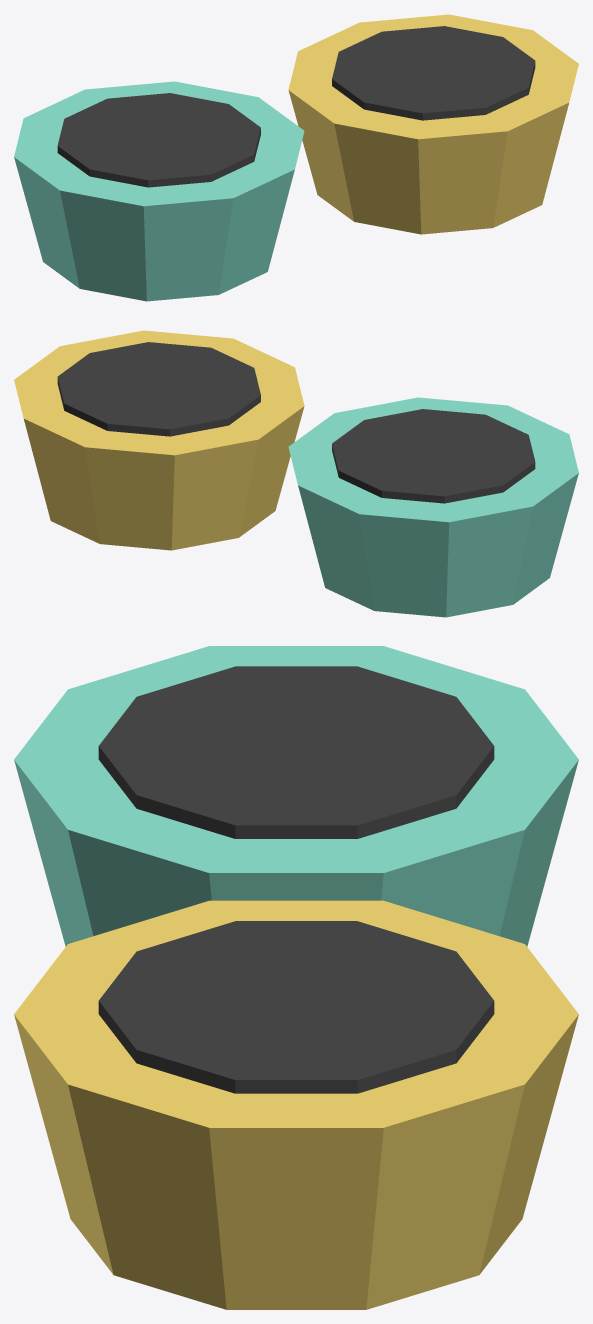
3 renders of one model, top to bottom at view 1: azimuth 30°, elevation 25°; view 2: azimuth 150°, elevation 25°; view 3: azimuth 270°, elevation 25°, orthographic. The views are drawn at different scales.
Visible parts, largest first — view 1: Bowl, Bowl.001, Inset.001, Inset; view 2: Bowl, Bowl.001, Inset.001, Inset; view 3: Bowl.001, Bowl, Inset, Inset.001.
Boxes of the visible parts, box(x1,y1,x2,y2) form: Bowl: box(14, 81, 304, 301); Bowl.001: box(288, 14, 578, 234); Inset.001: box(332, 26, 535, 120); Inset: box(57, 93, 260, 187); Bowl: box(288, 397, 578, 617); Bowl.001: box(14, 330, 304, 550); Inset.001: box(57, 342, 260, 436); Inset: box(332, 409, 535, 503); Bowl.001: box(14, 900, 578, 1309); Bowl: box(14, 646, 578, 946); Inset: box(98, 666, 494, 838); Inset.001: box(98, 921, 494, 1093).
Size of the model in its own units: 60.53 by 12.8 by 30.
